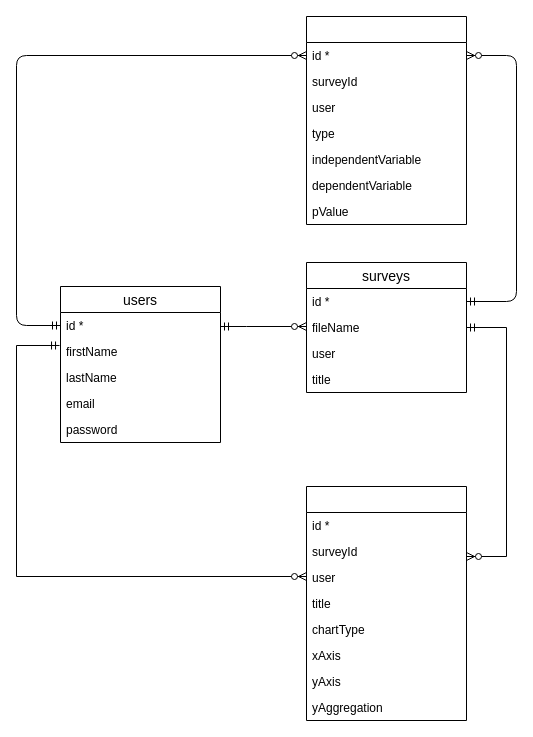
The diagram is 533 pixels wide and 737 high, and some of its shapes have lost their labels. The shapes that lost their labels are listed below. From the top down, each one's box as (x1, y1, x2, y2) in pixels, then its label:
(306, 16, 466, 224): tests
(306, 486, 466, 720): graphs
